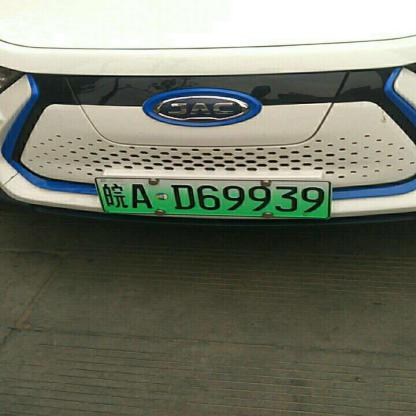lp: (96, 178, 329, 215)
